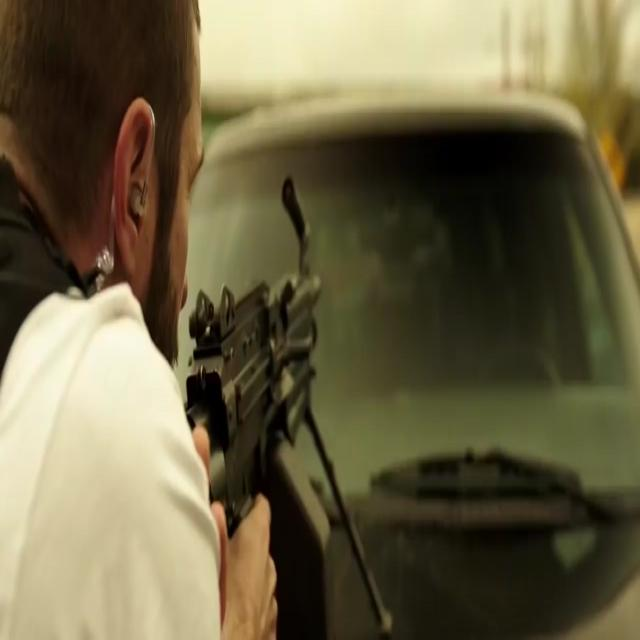Weapon: (210, 202, 375, 541)
